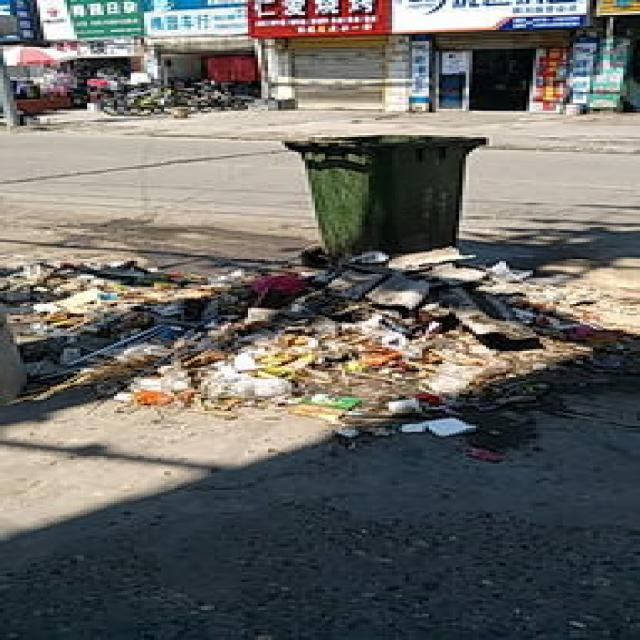garbage: (0, 244, 637, 462)
garbage_bin: (278, 132, 486, 252)
